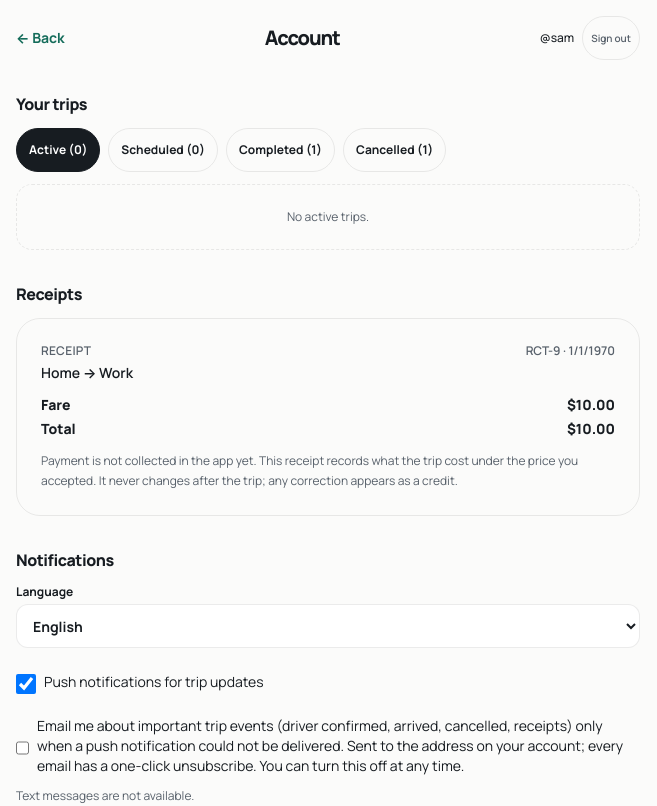
Test: Account (signed in) › shows DB history including cancelled trips, with no anonymous banner
The image size is (657, 806).
Click the tab "Cancelled (1)" at [394, 150], box [343,128,446,172]
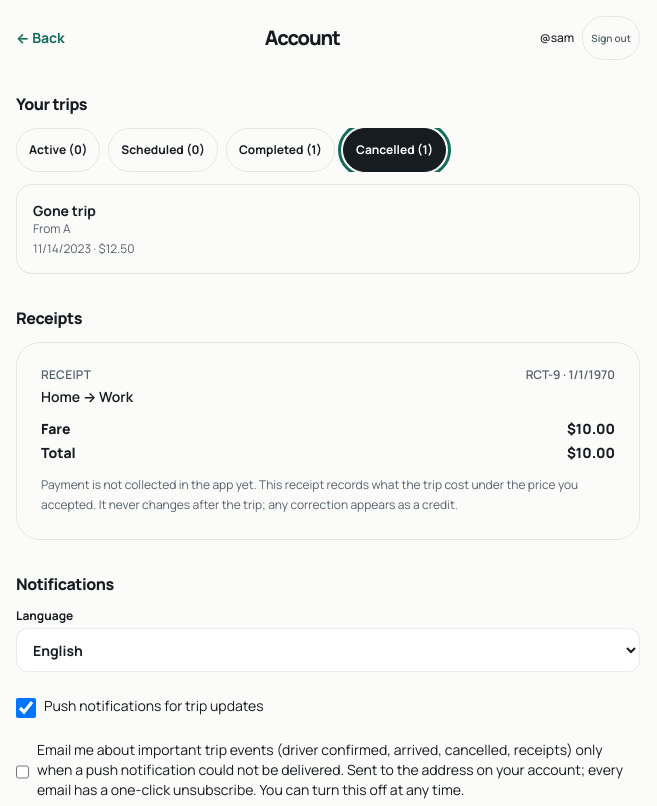
Check: the text "Gone trip" is shown, box [33,201,96,220]
Check: the text "11/14/2023 · $12.50" is shown, box [33,240,134,257]
Click the tab "Completed (1)" at [281, 150], box [226,128,335,172]
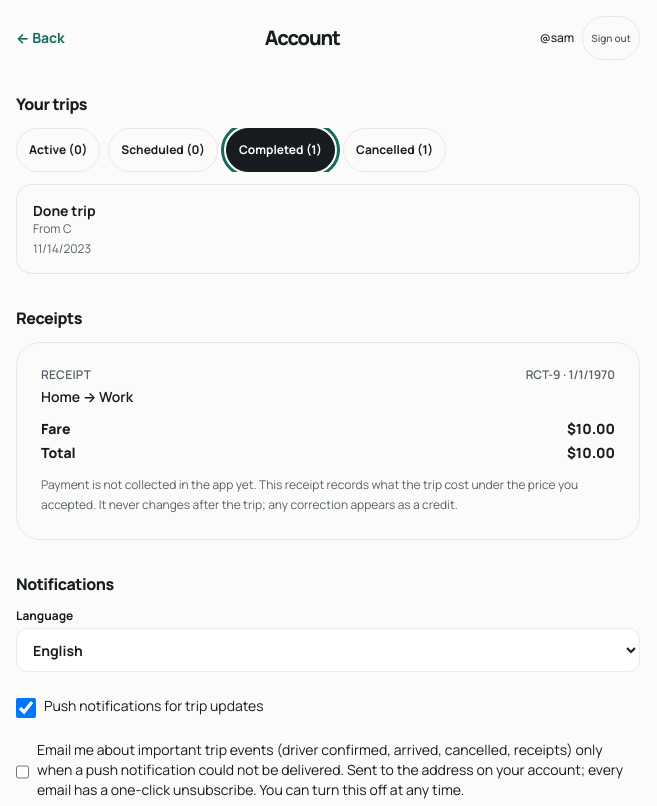
Check: the text "Done trip" is shown, box [33,201,96,220]
